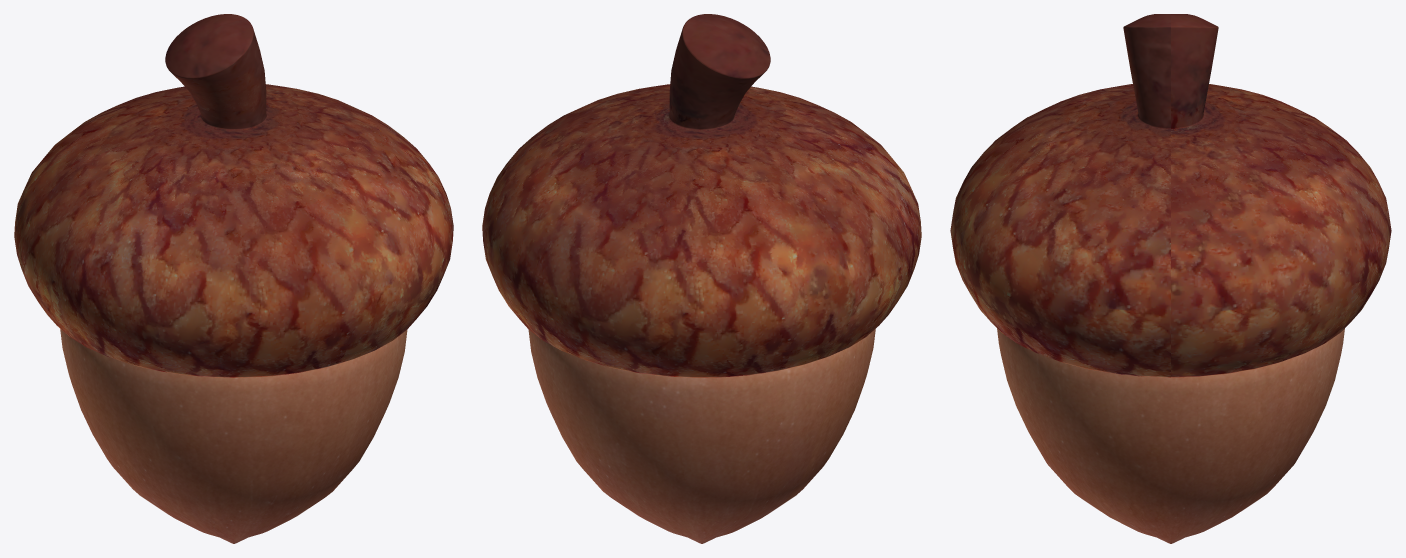
The model's file is acorn1.fbx.
The picture shows the model from 3 angles, left to right: view 1: azimuth 30°, elevation 25°; view 2: azimuth 150°, elevation 25°; view 3: azimuth 270°, elevation 25°; orthographic projection.
Visible parts, largest first — view 1: pSphere1; view 2: pSphere1; view 3: pSphere1.
Boxes of the visible parts, x1,y1,x2,y2 form: pSphere1: [14, 14, 453, 543]; pSphere1: [482, 14, 921, 543]; pSphere1: [950, 14, 1391, 543].
Size of the model in its own units: 19.5 by 25.5 by 19.5.
